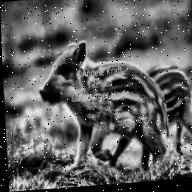boar: (35, 27, 161, 184), (144, 60, 192, 150)
